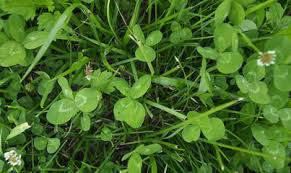4-clover: (112, 74, 152, 129)
